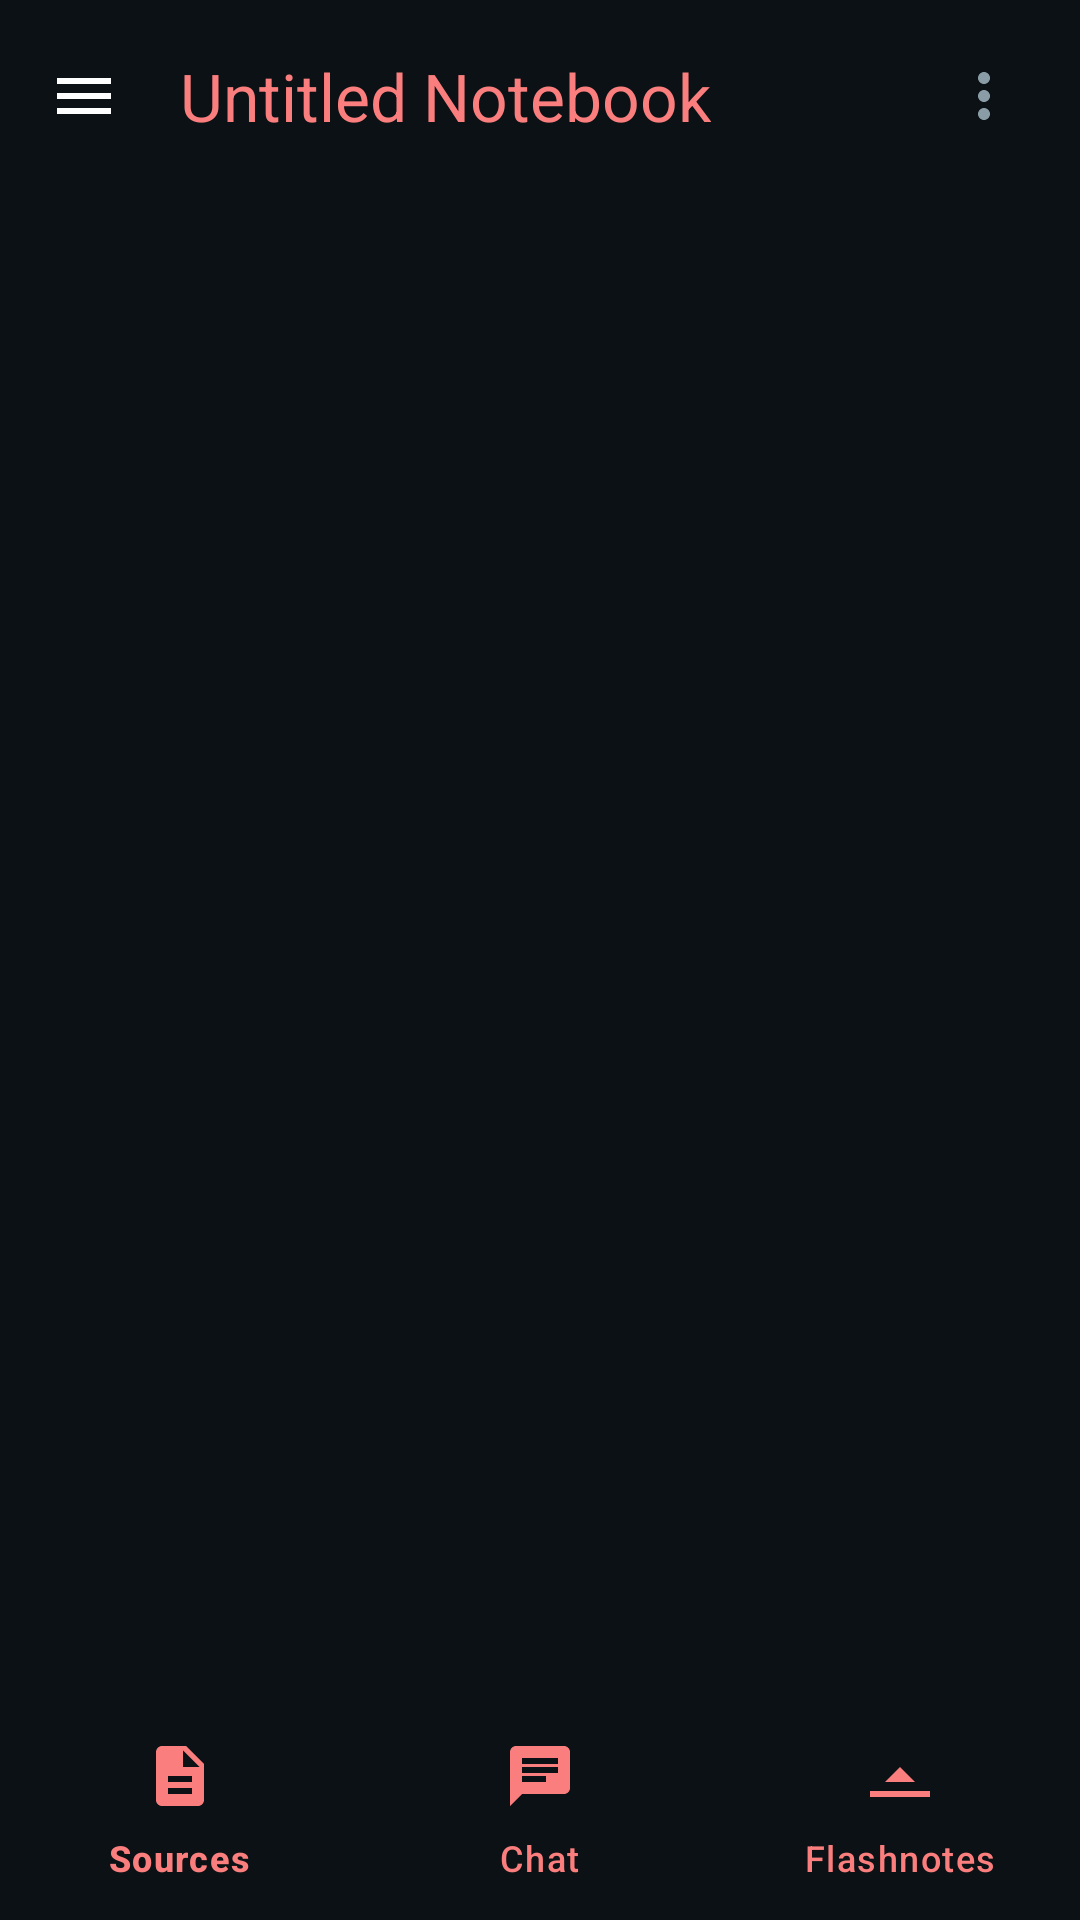

Locate icon controls on the screen. Image size 1080 x 1920, boxes as bbox=[x1, y1, x2, y2].
more vert: bbox=[978, 72, 990, 120]
